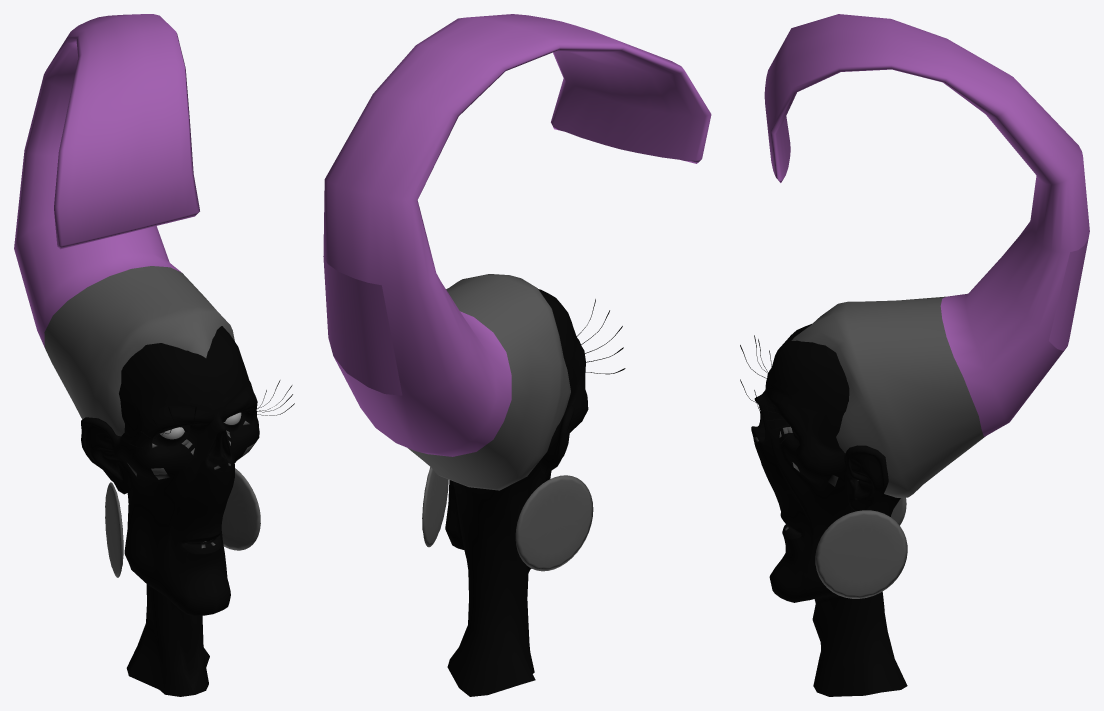
File: DeadlYzma.fbx
The picture shows the model from 3 angles, left to right: view 1: azimuth 30°, elevation 25°; view 2: azimuth 150°, elevation 25°; view 3: azimuth 270°, elevation 25°; orthographic projection. The views are drawn at different scales.
Parts seen in each view (by area): view 1: pSphere1, polySurface2, pCylinder1; view 2: pSphere1, polySurface2, pCylinder1; view 3: pSphere1, polySurface2, pCylinder1.
Part boxes in pixels (x1,y1,x2,y2): pSphere1: [14, 14, 234, 436]; polySurface2: [81, 326, 259, 696]; pCylinder1: [105, 468, 260, 577]; pSphere1: [323, 14, 711, 490]; polySurface2: [445, 289, 588, 696]; pCylinder1: [422, 467, 593, 571]; pSphere1: [764, 14, 1089, 497]; polySurface2: [751, 324, 907, 696]; pCylinder1: [815, 497, 907, 598].
Size of the model in its own units: 10.52 by 26.23 by 13.05.
